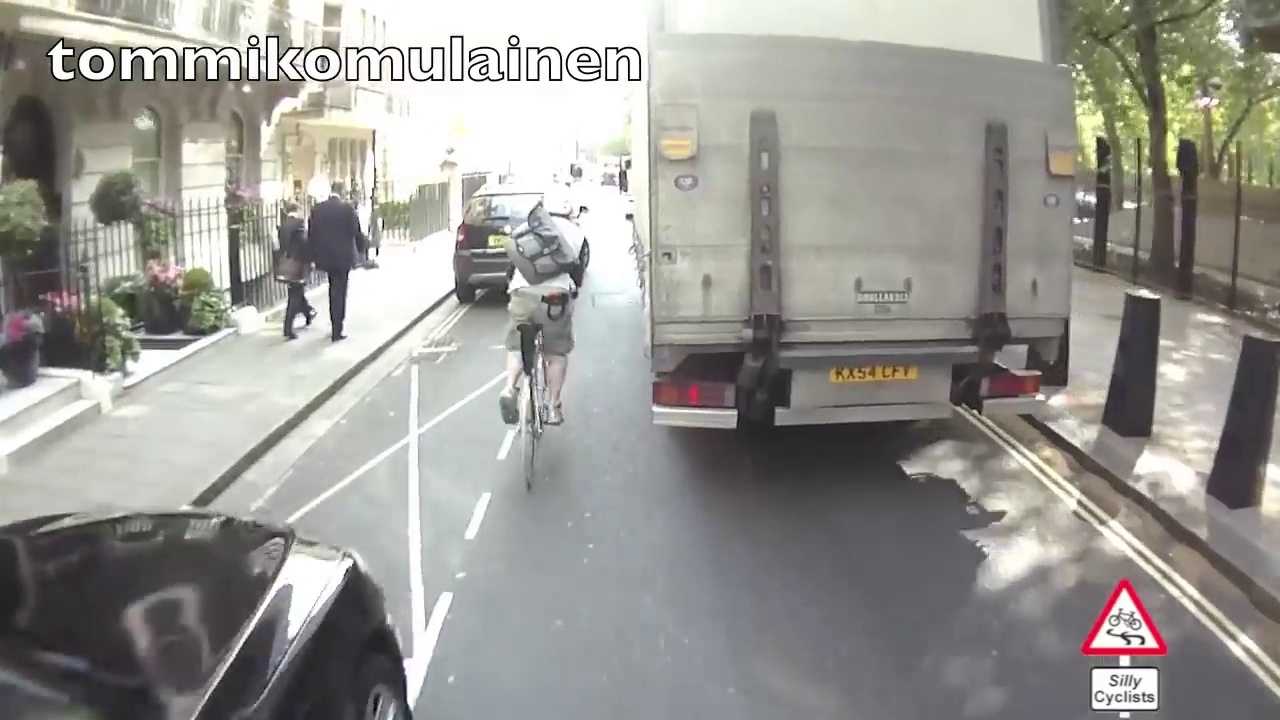cyclist_back: (498, 184, 582, 483)
